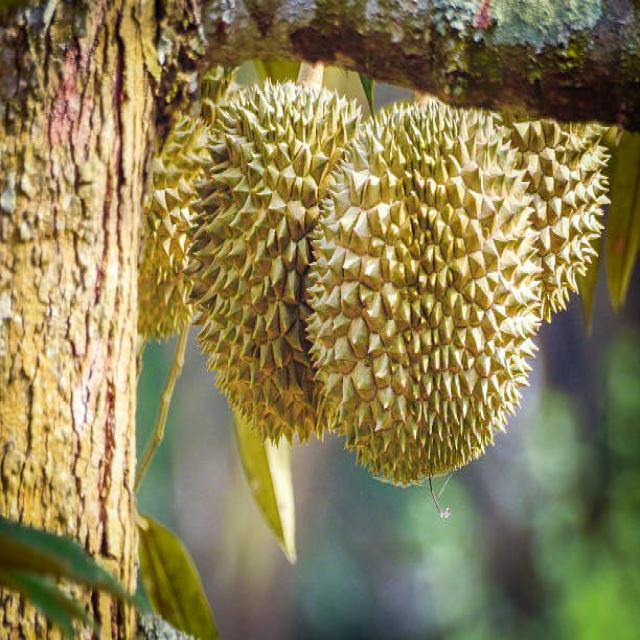mature: (308, 101, 542, 485)
